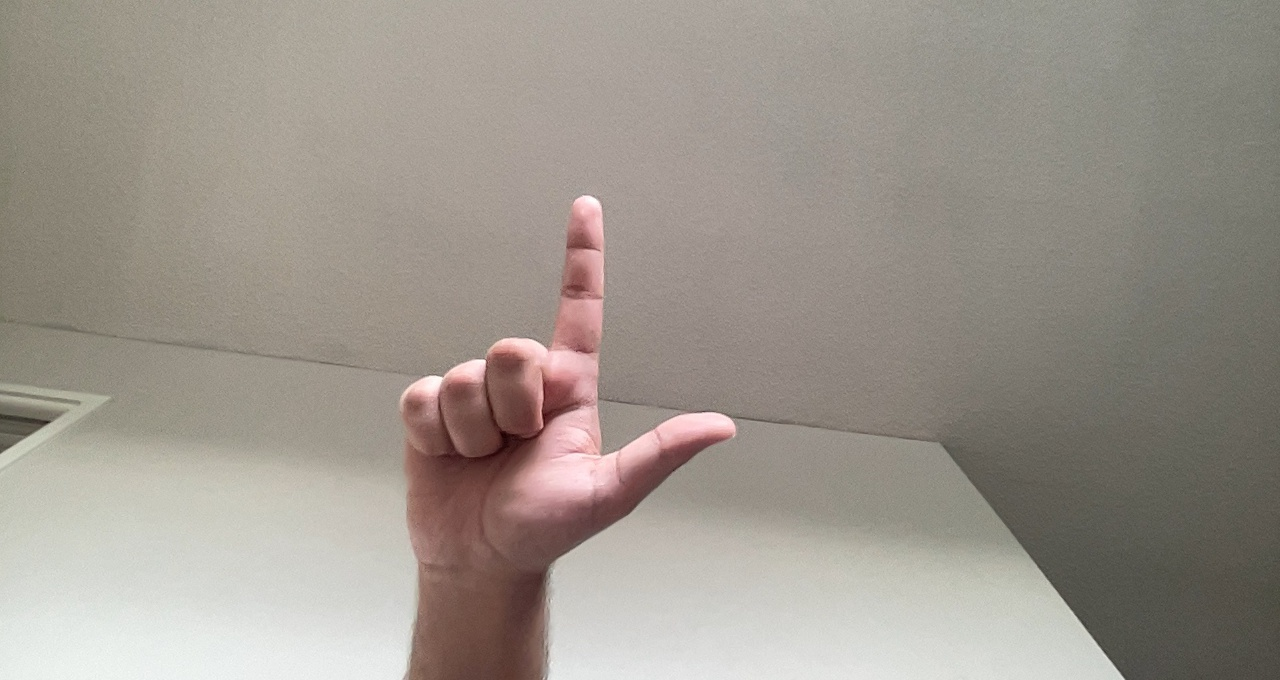L: (387, 184, 751, 594)
